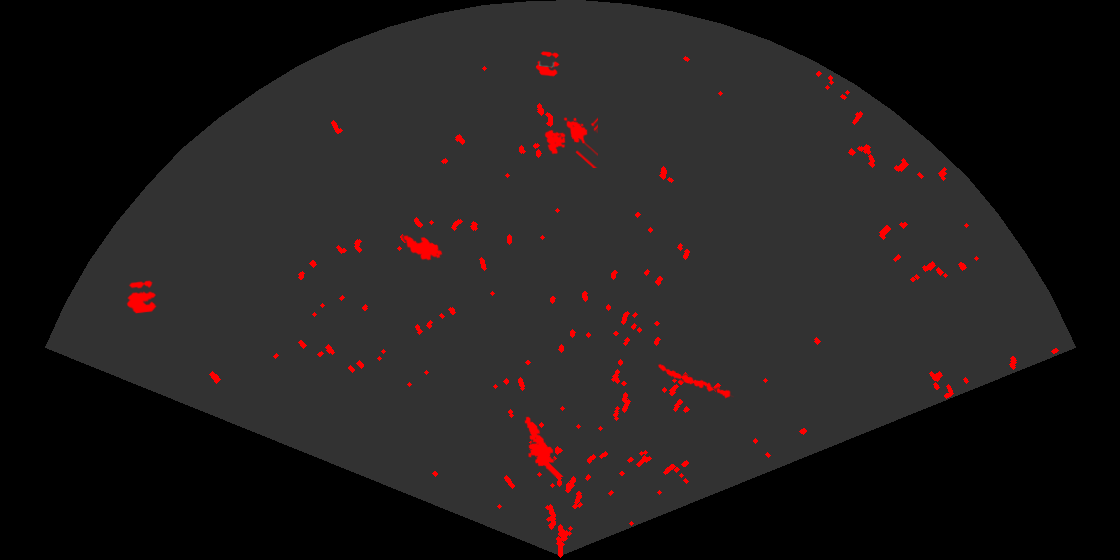AUV: (401, 233, 444, 262)
ball: (125, 279, 158, 315), (534, 50, 561, 78)
cage: (543, 116, 598, 168)
chain: (656, 362, 734, 400)
frogman: (523, 415, 565, 477)
